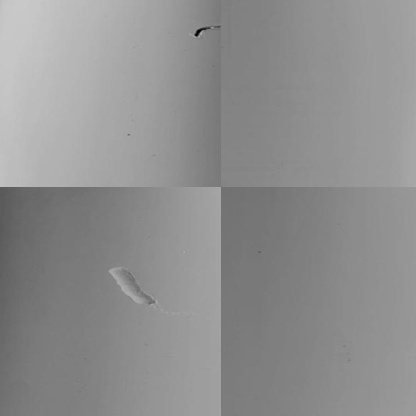fengxi: (177, 22, 223, 40)
sunshang: (106, 260, 167, 310)
